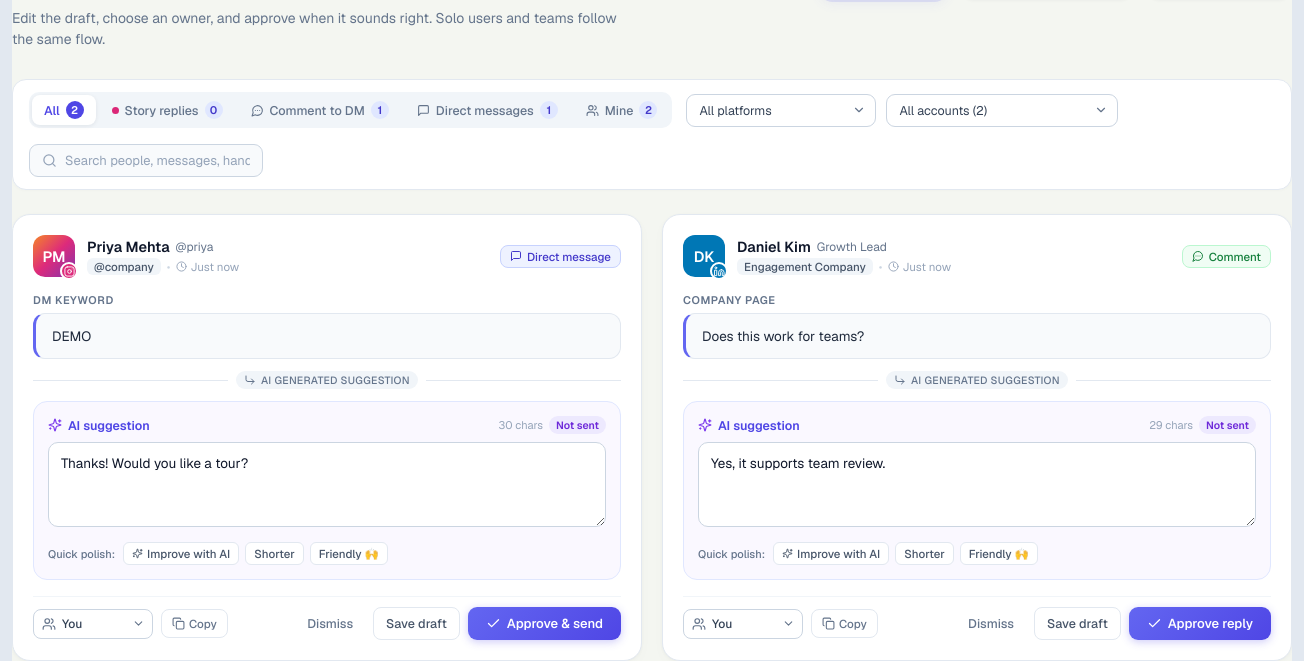
Test: EngagementHubView › loads the review queue and sends only after approval
The width and height of the screenshot is (1304, 661).
(page scrolled)
Click the button "Approve & send": click(544, 624) [468,607,621,640]
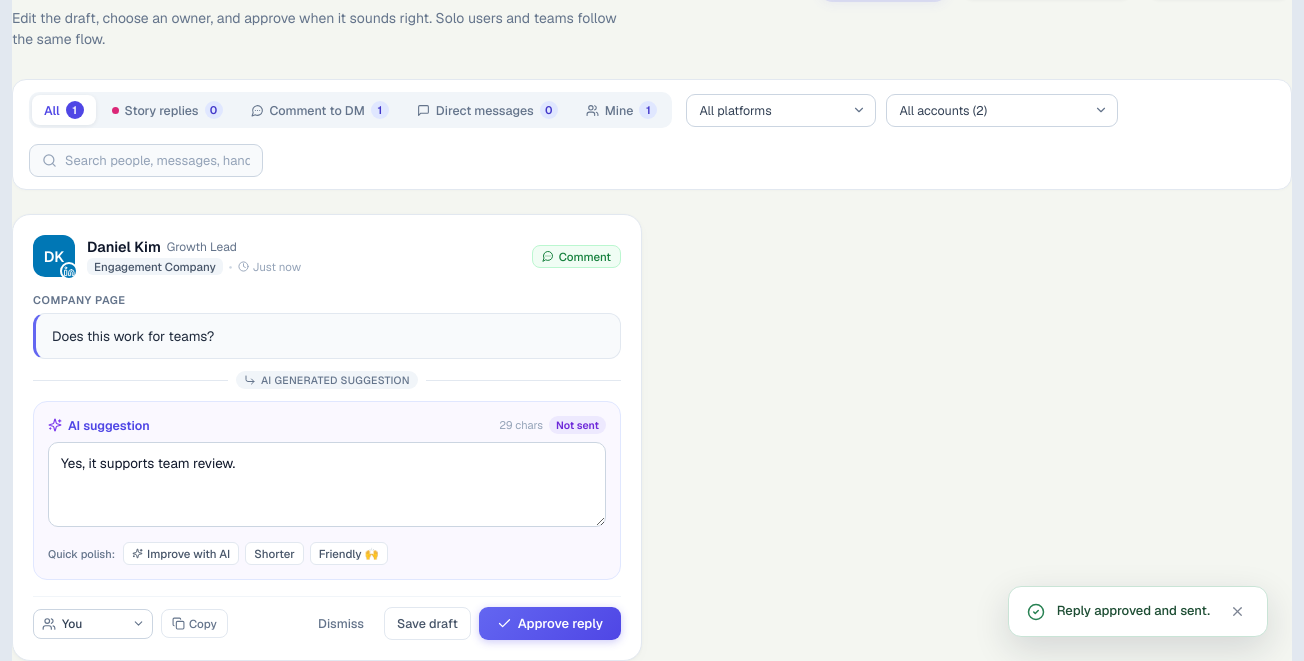
Now the message shows "approved and sent", box [1057,602,1210,619]
